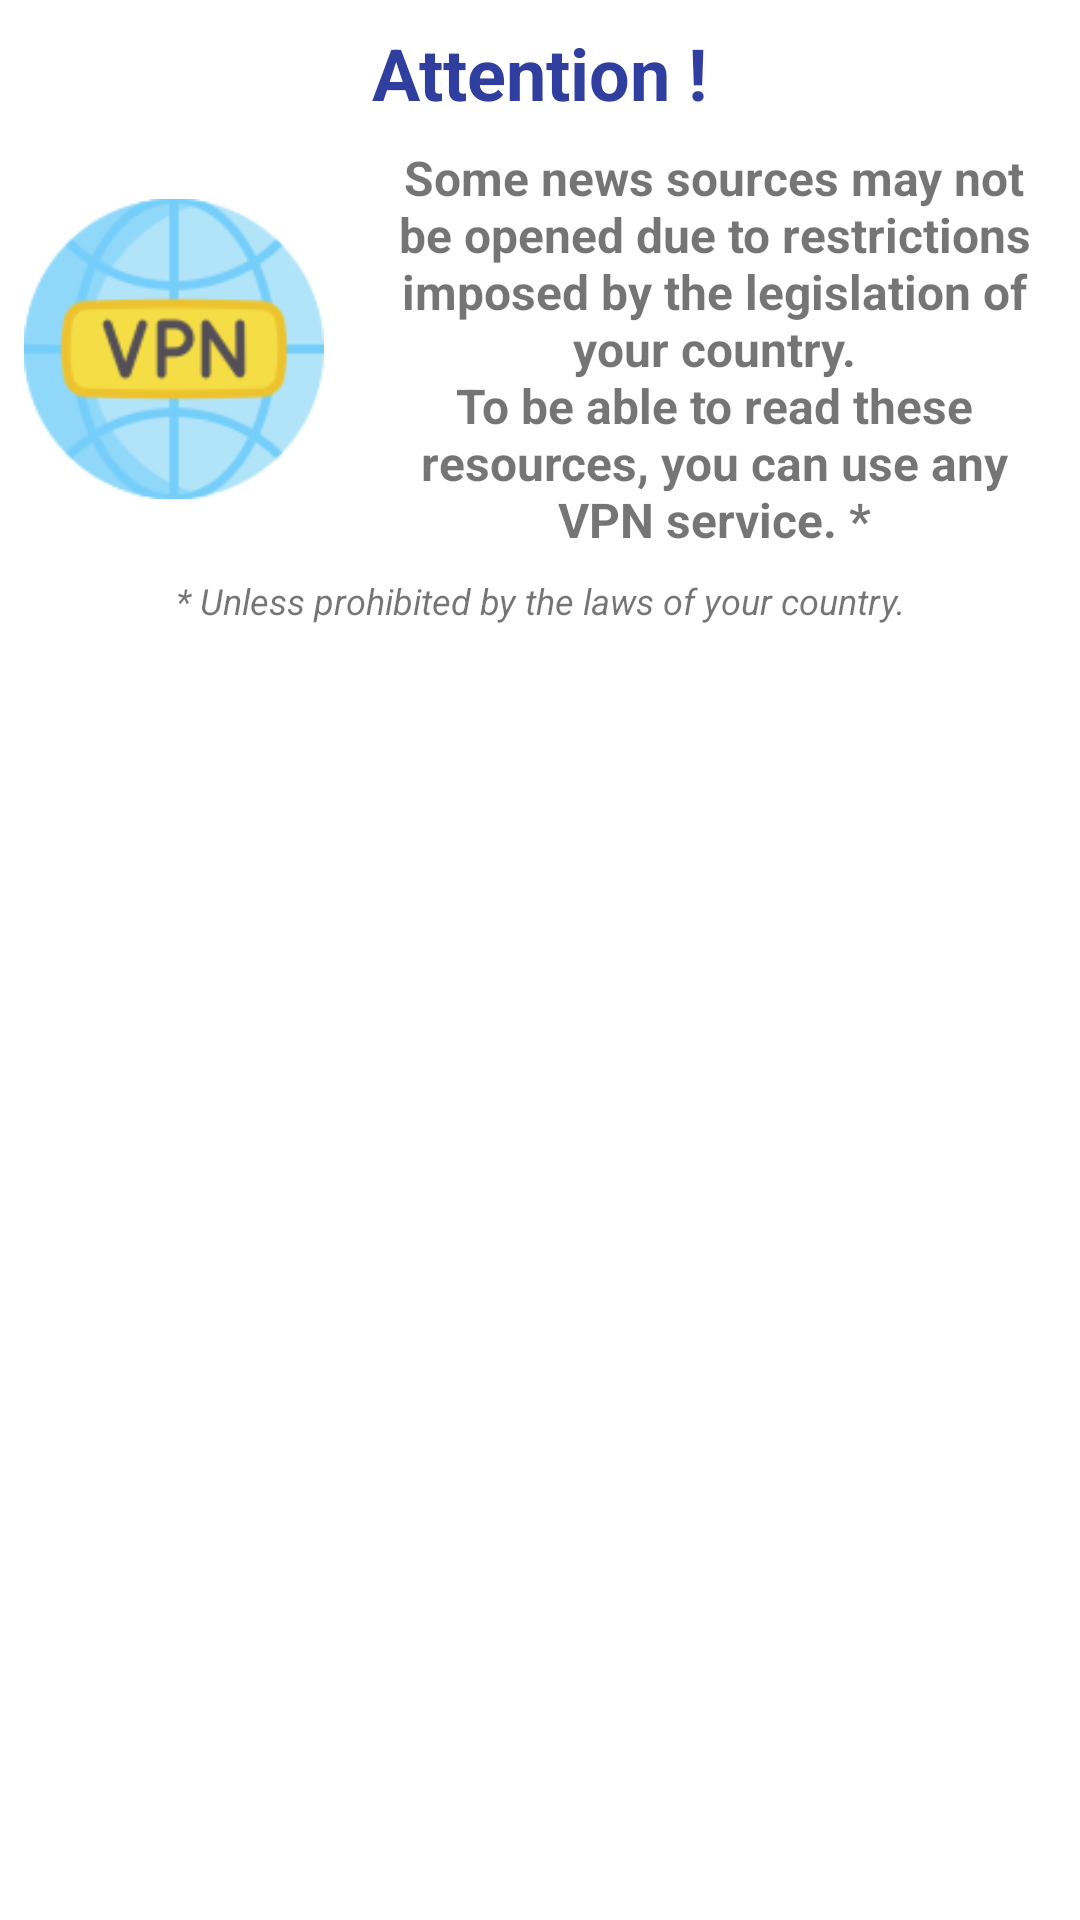

Icons on this 1080×1920 Android screen, each with its box as (x1,y1,x2,y2):
alert vpn: (24,199,324,499)
